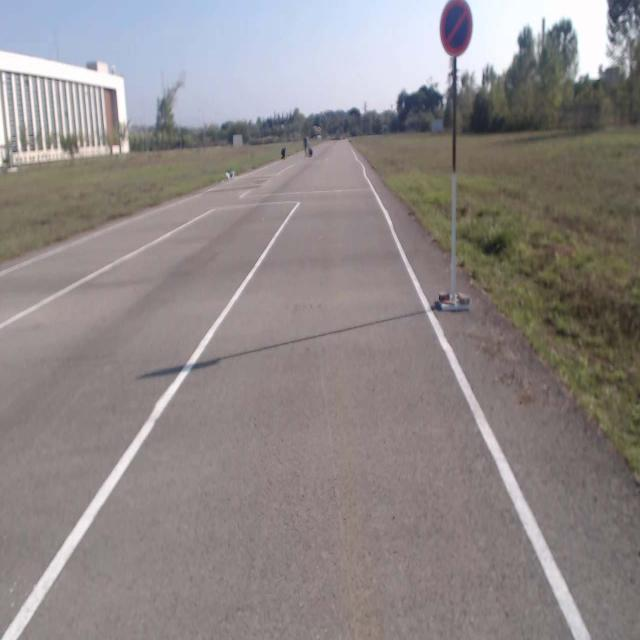parkyasak: (440, 0, 472, 56)
